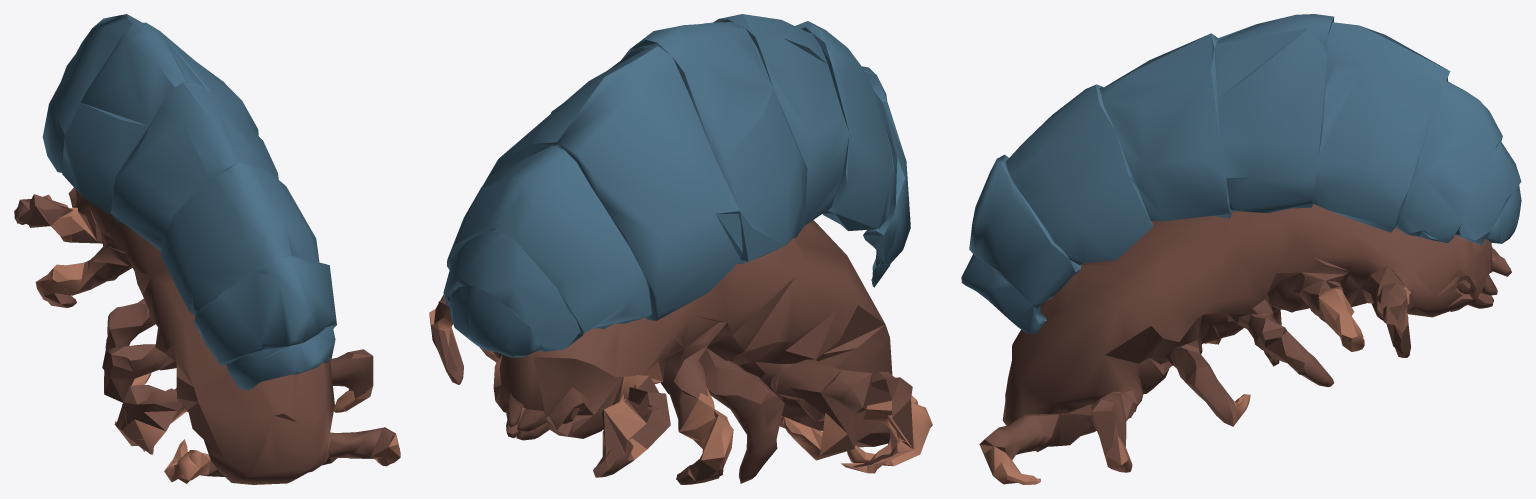
File: big-spitter-attack.glb
3 views of the same model, side by side, from view 1: azimuth 30°, elevation 25°; view 2: azimuth 150°, elevation 25°; view 3: azimuth 270°, elevation 25° (orthographic). The views are drawn at different scales.
Parts seen in each view (by area): view 1: body; view 2: body; view 3: body.
Part boxes in pixels (box(x1,y1,x2,y2)): body: box(14, 14, 400, 484); body: box(429, 14, 932, 484); body: box(961, 14, 1521, 484).
Bounding box in the file's own units: 1.6 × 2.34 × 2.94.
